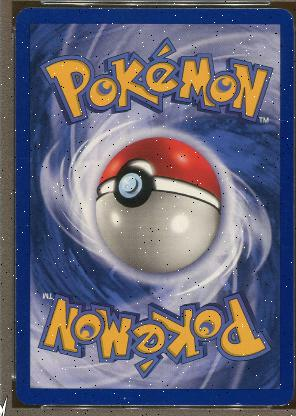Card: (12, 5, 294, 407)
Corner Wear: (271, 400, 288, 406)
Edge Wear: (59, 7, 132, 9)
Scratch: (227, 402, 239, 404), (123, 396, 126, 400)
